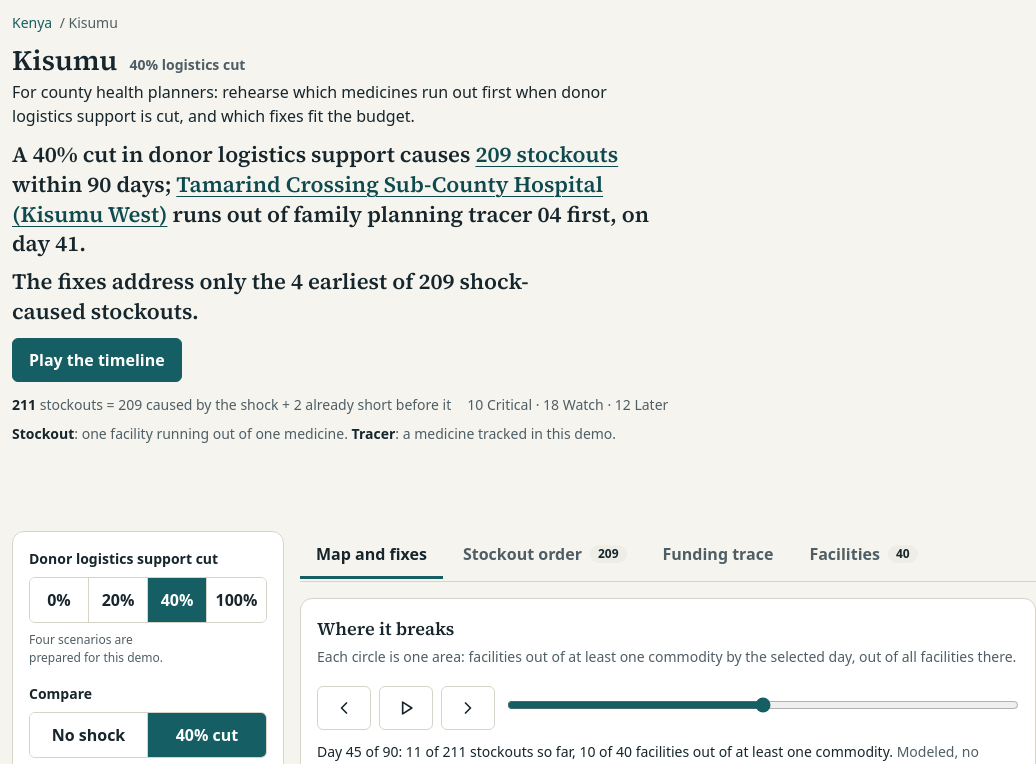
Test: answers what breaks first at each prepared shock from the backend runs
expect the element named "What breaks first" shows "A 40% cut in donor logistics support causes 209 stockouts within 90 days; Tamarind Crossing Sub-County Hospital (Kisumu West) runs out of family planning tracer": met, box [12, 140, 671, 515]
expect the element named "What breaks first" shows "The fixes address only the 4 earliest of 209 shock-caused stockouts.": met, box [12, 266, 529, 326]
What coordinates should you click on to do the following:
click the radio button labelled "20%"
I would click on:
 (118, 600)
Its box is [89, 578, 148, 622].
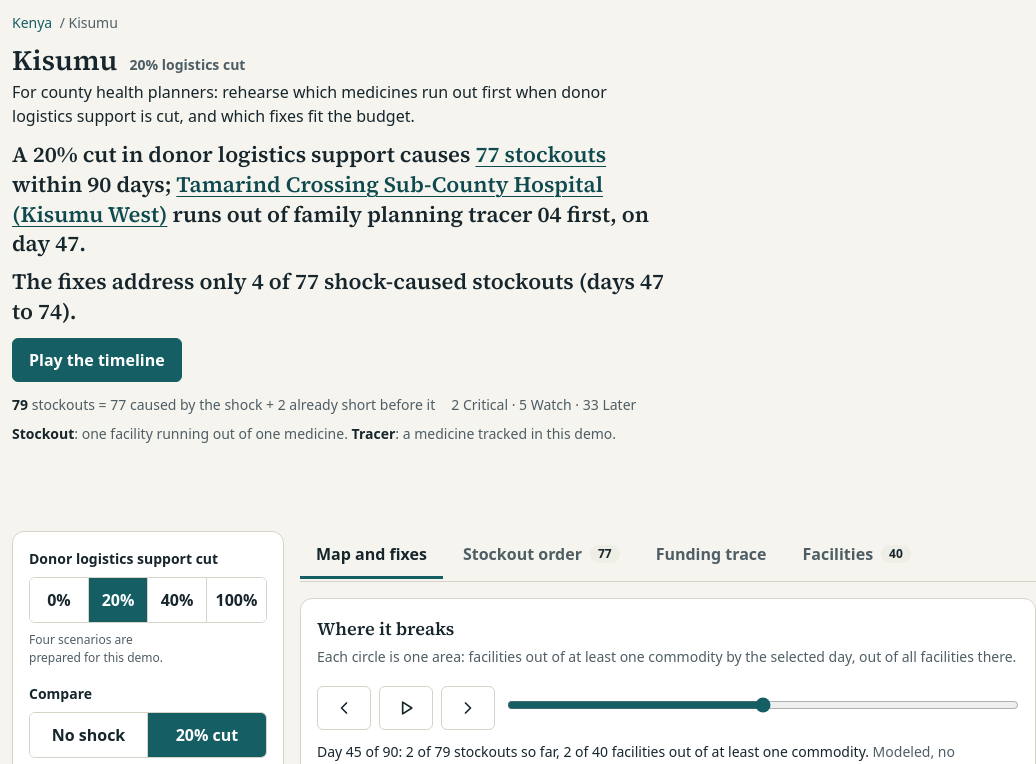
expect the element named "What breaks first" shows "The fixes address only 4 of 77 shock-caused stockouts (days 47 to 74).": met, box [12, 266, 664, 326]
expect the element named "What breaks first" shows "2 Critical · 5 Watch · 33 Later": met, box [451, 395, 636, 414]
What coordinates should you click on to do the following:
click the radio button labelled "100%"
I would click on:
 (236, 600)
Its box is [207, 578, 266, 622].
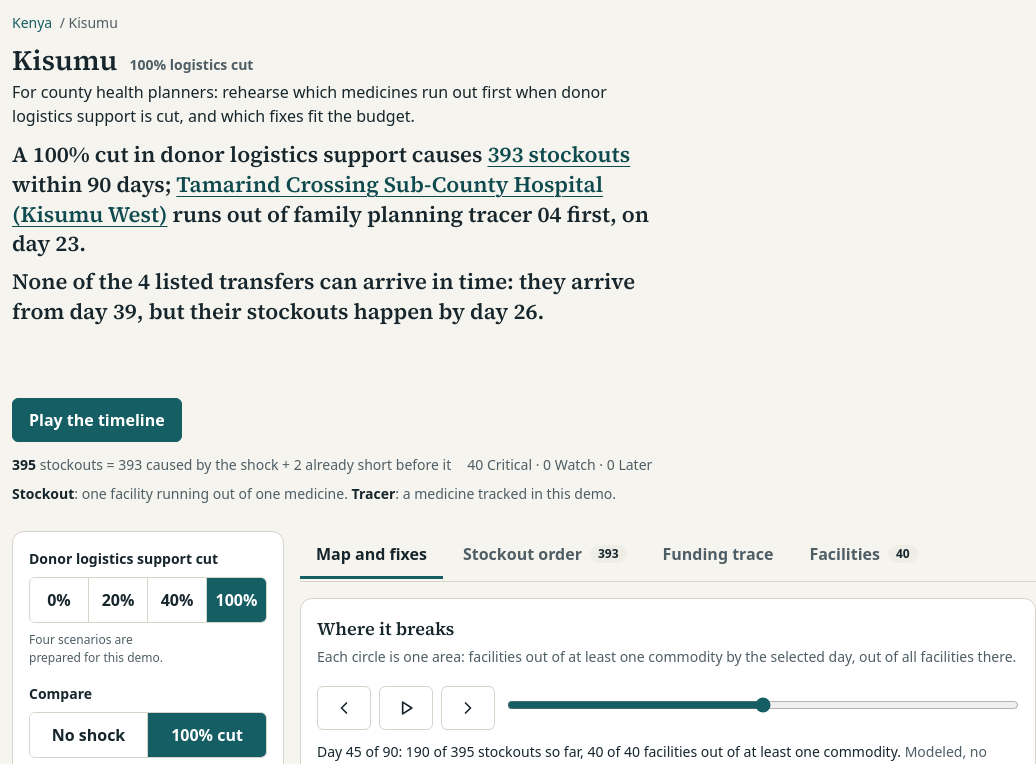
expect the element named "What breaks first" shows "None of the 4 listed transfers can arrive in time: they arrive from day 39, but their stockouts happen by day 26.": met, box [12, 266, 635, 326]
expect the element named "What breaks first" shows "40 Critical · 0 Watch · 0 Later": met, box [467, 455, 652, 474]
expect the element named "What breaks first" shows "causes 393 stockouts": met, box [12, 140, 671, 515]
What coordinates should you click on to do the following:
click the radio button labelled "0%"
I would click on:
 (60, 600)
Its box is [30, 578, 89, 622].
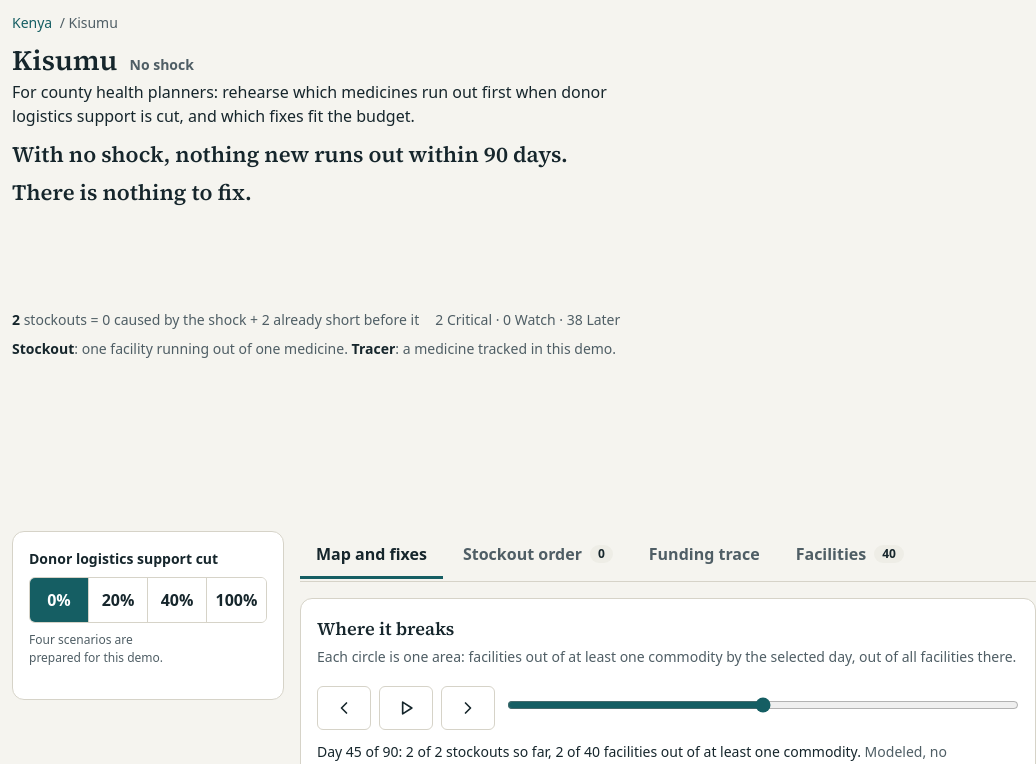
expect the element named "What breaks first" shows "2 Critical · 0 Watch · 38 Later": met, box [435, 310, 620, 329]
expect the text "Compare" is gone: met
